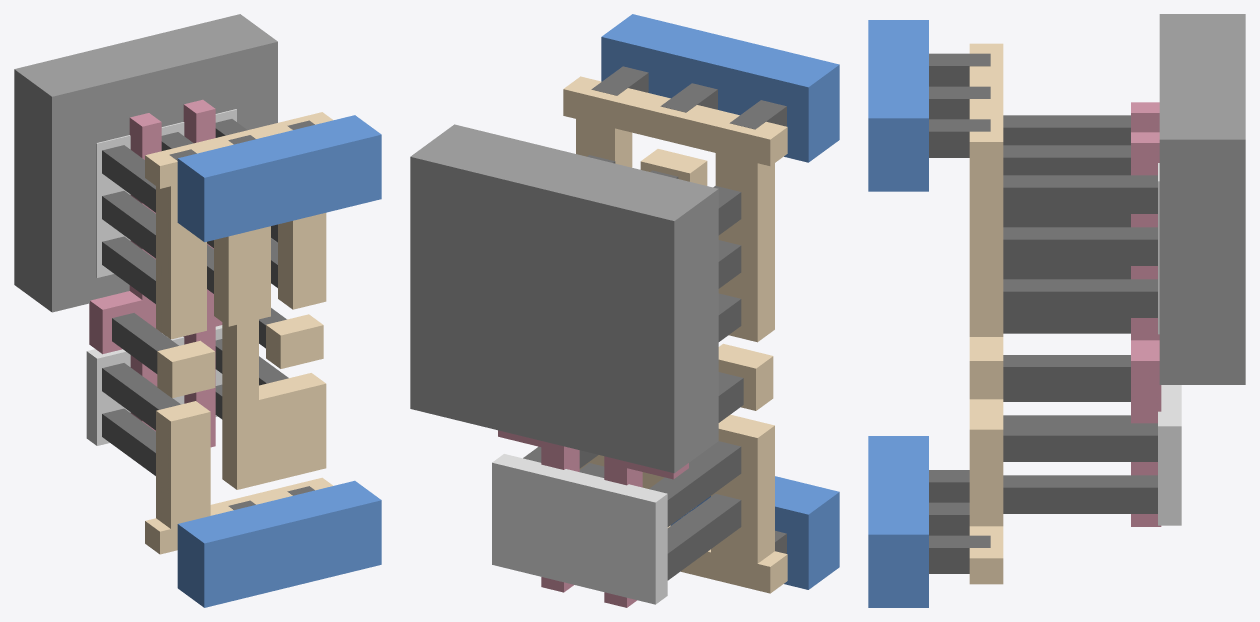
The model's file is sky130_fd_sc_hd__nand2_1.gds.gltf.
3 renders of one model, left to right at view 1: azimuth 30°, elevation 25°; view 2: azimuth 150°, elevation 25°; view 3: azimuth 270°, elevation 25°, orthographic. The views are drawn at different scales.
Visible parts, largest first — view 1: sky130_fd_sc_hd__nand2_1_li1, sky130_fd_sc_hd__nand2_1_nwell, sky130_fd_sc_hd__nand2_1_met1, sky130_fd_sc_hd__nand2_1_licon, sky130_fd_sc_hd__nand2_1_poly, sky130_fd_sc_hd__nand2_1_diff, sky130_fd_sc_hd__nand2_1_mcon; view 2: sky130_fd_sc_hd__nand2_1_nwell, sky130_fd_sc_hd__nand2_1_li1, sky130_fd_sc_hd__nand2_1_met1, sky130_fd_sc_hd__nand2_1_diff, sky130_fd_sc_hd__nand2_1_licon, sky130_fd_sc_hd__nand2_1_mcon, sky130_fd_sc_hd__nand2_1_poly; view 3: sky130_fd_sc_hd__nand2_1_licon, sky130_fd_sc_hd__nand2_1_nwell, sky130_fd_sc_hd__nand2_1_met1, sky130_fd_sc_hd__nand2_1_li1, sky130_fd_sc_hd__nand2_1_mcon, sky130_fd_sc_hd__nand2_1_poly, sky130_fd_sc_hd__nand2_1_diff.
Part boxes in pixels (x1,y1,x2,y2): sky130_fd_sc_hd__nand2_1_li1: (145, 112, 333, 554); sky130_fd_sc_hd__nand2_1_nwell: (14, 14, 277, 312); sky130_fd_sc_hd__nand2_1_met1: (177, 115, 381, 607); sky130_fd_sc_hd__nand2_1_licon: (102, 119, 288, 475); sky130_fd_sc_hd__nand2_1_poly: (89, 99, 222, 447); sky130_fd_sc_hd__nand2_1_diff: (86, 109, 236, 445); sky130_fd_sc_hd__nand2_1_mcon: (169, 120, 314, 509); sky130_fd_sc_hd__nand2_1_nwell: (410, 124, 718, 473); sky130_fd_sc_hd__nand2_1_li1: (563, 76, 787, 593); sky130_fd_sc_hd__nand2_1_met1: (601, 14, 839, 589); sky130_fd_sc_hd__nand2_1_diff: (492, 454, 667, 604); sky130_fd_sc_hd__nand2_1_licon: (523, 155, 743, 580); sky130_fd_sc_hd__nand2_1_mcon: (591, 66, 786, 553); sky130_fd_sc_hd__nand2_1_poly: (498, 430, 688, 607); sky130_fd_sc_hd__nand2_1_licon: (1003, 115, 1157, 513); sky130_fd_sc_hd__nand2_1_nwell: (1159, 14, 1245, 384); sky130_fd_sc_hd__nand2_1_met1: (868, 20, 928, 607); sky130_fd_sc_hd__nand2_1_li1: (969, 43, 1003, 584); sky130_fd_sc_hd__nand2_1_mcon: (929, 53, 990, 573); sky130_fd_sc_hd__nand2_1_poly: (1131, 102, 1161, 526); sky130_fd_sc_hd__nand2_1_diff: (1158, 163, 1181, 525).
Bounding box in the file's own units: 1.76 × 3.2 × 2.24.
